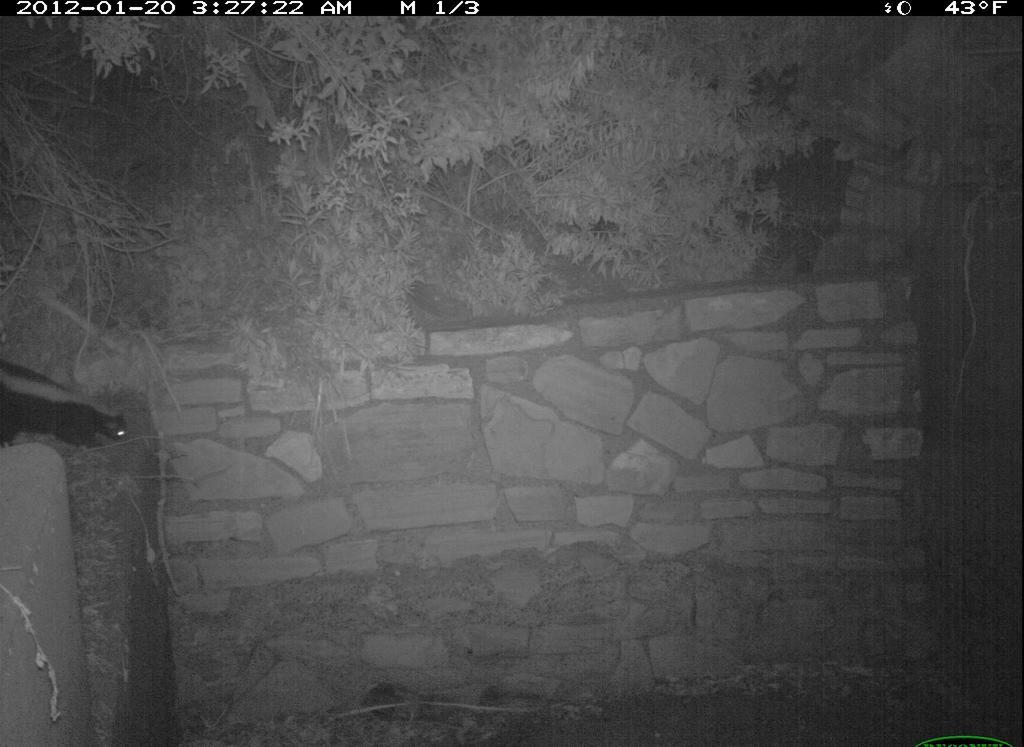skunk: (2, 355, 144, 463)
